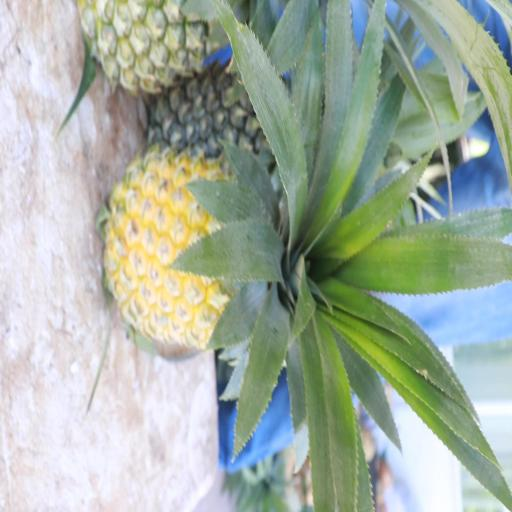Pineapple - v8 v1: (111, 150, 322, 349)
